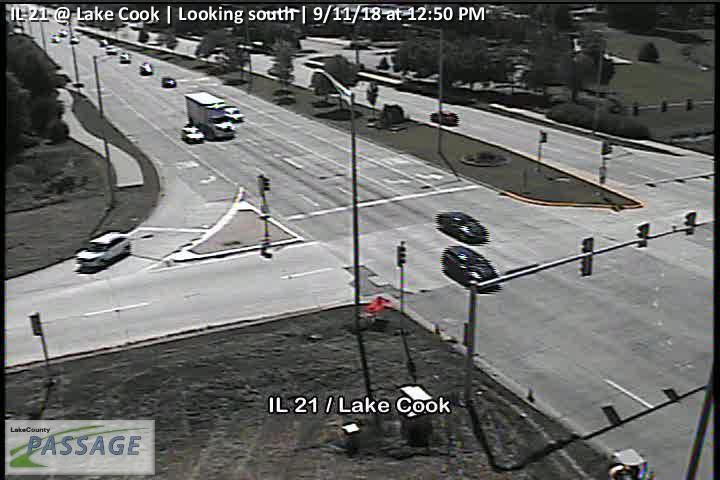SUV: (441, 245, 499, 290), (74, 231, 132, 270), (430, 109, 459, 125), (181, 125, 205, 143)
Sedan: (436, 211, 488, 244), (161, 77, 176, 87)
Truck: (184, 91, 237, 141)
